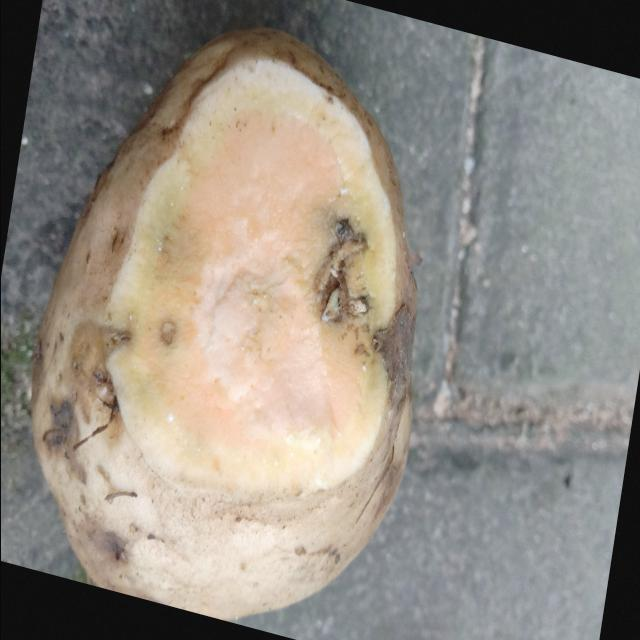Sick Sweet Potato_Tuber Rot: (108, 60, 395, 497)
